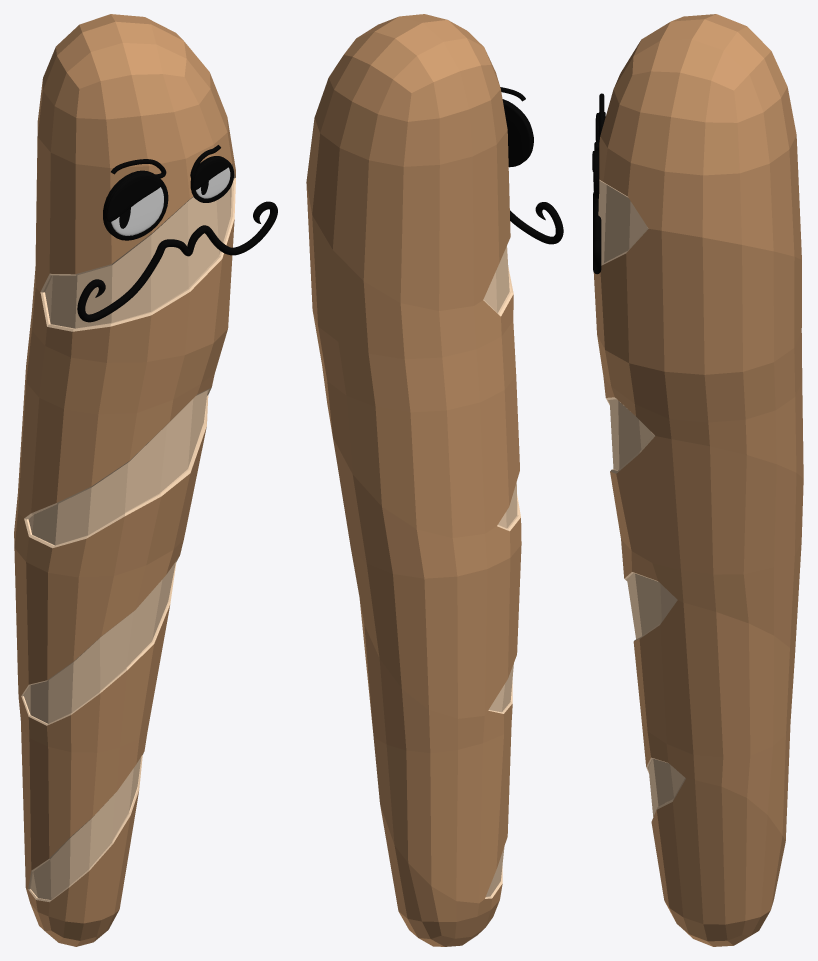
The model's file is stokbrood.glb.
3 renders of one model, left to right at view 1: azimuth 30°, elevation 25°; view 2: azimuth 150°, elevation 25°; view 3: azimuth 270°, elevation 25°, orthographic. The views are drawn at different scales.
Parts seen in each view (by area): view 1: Cube, NurbsPath, Cube.013, Cube.015, Cube.016, Cube.009; view 2: Cube, Cube.016, NurbsPath; view 3: Cube, NurbsPath.
Part boxes in pixels (<box>): Cube: <box>14,14,235,946</box>; NurbsPath: <box>77,201,277,322</box>; Cube.013: <box>106,173,162,222</box>; Cube.015: <box>111,187,163,235</box>; Cube.016: <box>103,170,168,240</box>; Cube.009: <box>192,158,230,190</box>; Cube: <box>306,14,521,946</box>; Cube.016: <box>502,99,533,167</box>; NurbsPath: <box>510,202,563,244</box>; Cube: <box>593,14,803,946</box>; NurbsPath: <box>593,192,601,274</box>.
Bounding box in the file's own units: 0.235 × 1.03 × 0.2103.
